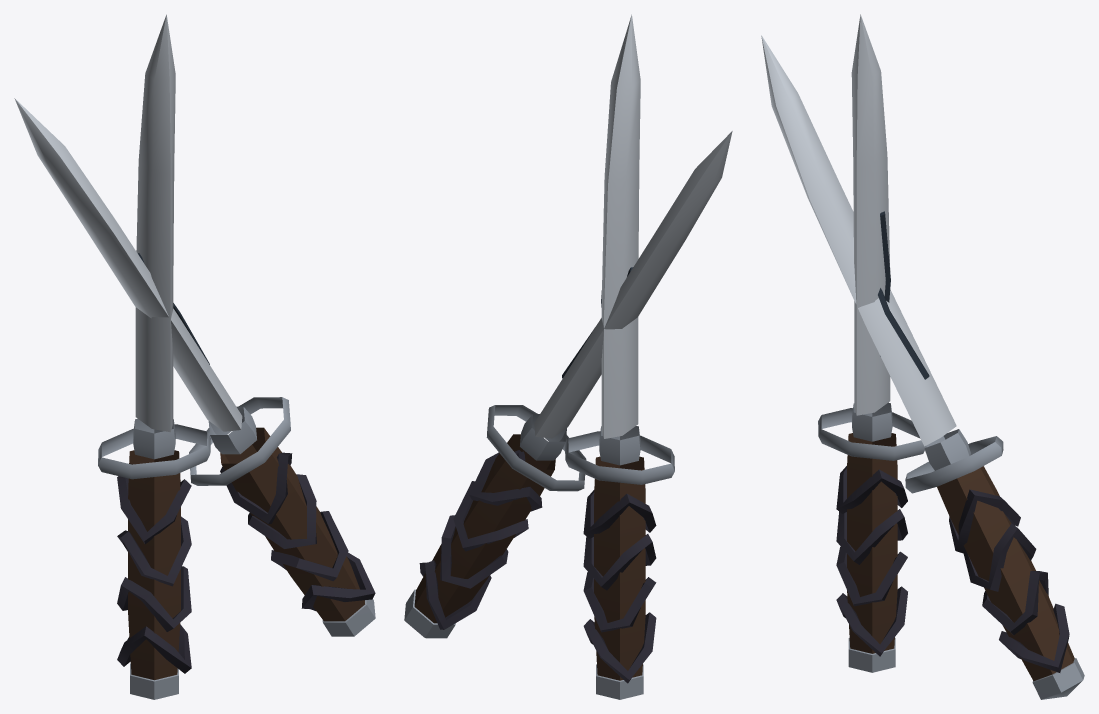
File: tanto-rune.glb
The picture shows the model from 3 angles, left to right: view 1: azimuth 30°, elevation 25°; view 2: azimuth 150°, elevation 25°; view 3: azimuth 330°, elevation 25°; orthographic projection. The views are drawn at different scales.
Parts seen in each view (by area): view 1: tanto-rune, OffHand; view 2: tanto-rune, OffHand; view 3: OffHand, tanto-rune.
Boxes of the visible parts, x1,y1,x2,y2 form: tanto-rune: (98,14,210,699); OffHand: (14,98,375,636); tanto-rune: (565,14,674,699); OffHand: (404,131,732,638); OffHand: (761,35,1084,699); tanto-rune: (818,14,924,672).
Size of the model in its own units: 0.197 by 0.375 by 0.0448.
